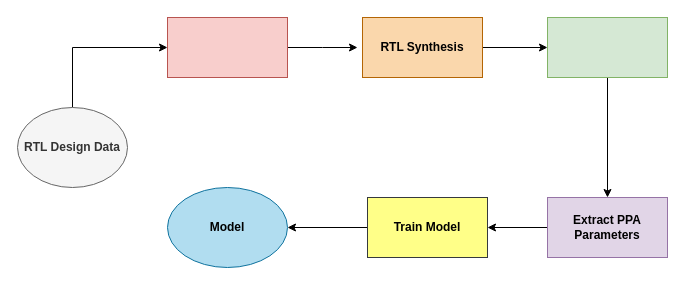
Image size: 685x285. Some labels were removed from this diagram. The shapes that lost their labels are listed below. From the top down, each one's centre as x and y in pixels, then its label:
At (x=227, y=47): "Generate Sampling Space".
At (x=607, y=47): "Obtain PPA Measurements".
